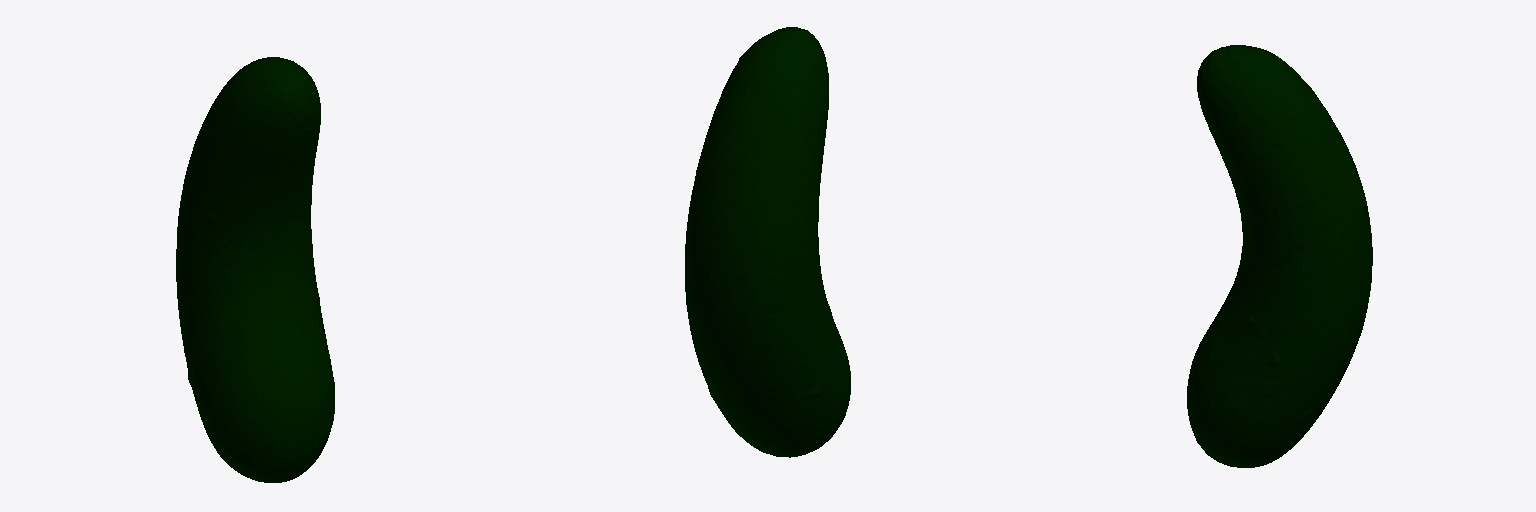
File: Pickle2.obj
3 renders of one model, left to right at view 1: azimuth 30°, elevation 25°; view 2: azimuth 150°, elevation 25°; view 3: azimuth 270°, elevation 25°, orthographic.
Visible parts, largest first — view 1: Pickle; view 2: Pickle; view 3: Pickle.
Boxes of the visible parts, <box> form: Pickle: <box>176,57,334,482</box>; Pickle: <box>685,27,850,457</box>; Pickle: <box>1187,45,1372,467</box>.
Bounding box in the file's own units: 0.658 × 2.09 × 0.8484.